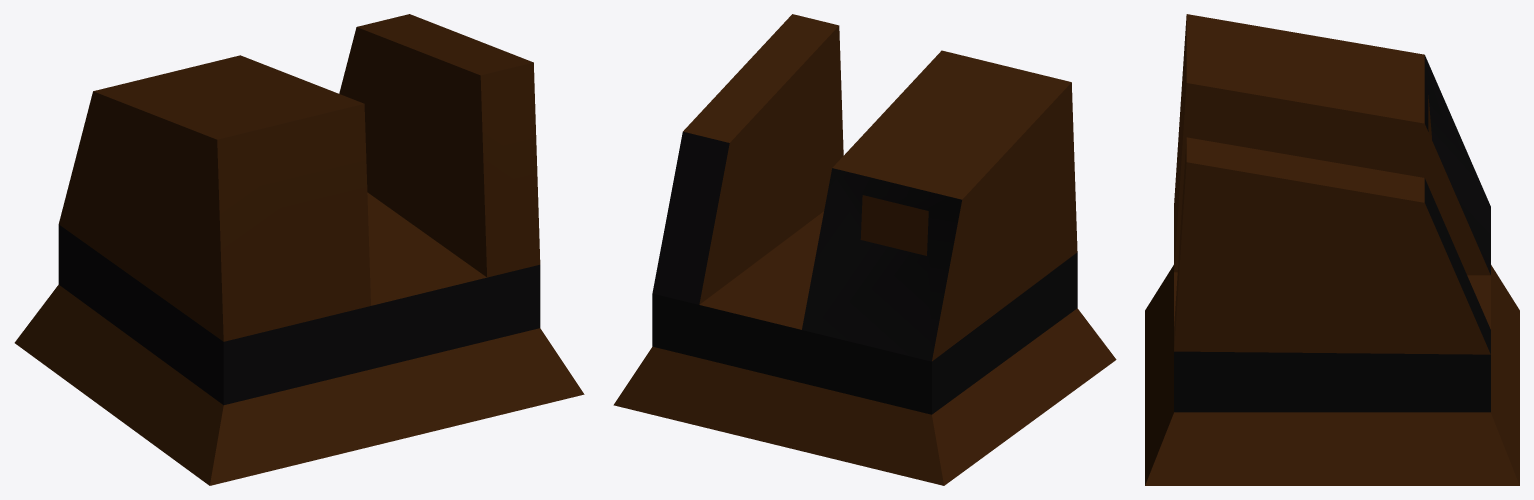
Rendered from turret_body.obj.
3 renders of one model, left to right at view 1: azimuth 30°, elevation 25°; view 2: azimuth 150°, elevation 25°; view 3: azimuth 270°, elevation 25°, orthographic. The views are drawn at different scales.
Parts seen in each view (by area): view 1: Cube_Cube.001; view 2: Cube_Cube.001; view 3: Cube_Cube.001.
Part boxes in pixels (x1,y1,x2,y2): Cube_Cube.001: (14, 14, 584, 485); Cube_Cube.001: (613, 14, 1116, 485); Cube_Cube.001: (1145, 14, 1519, 485).
Bounding box in the file's own units: 0.3814 × 0.3144 × 0.3444.
